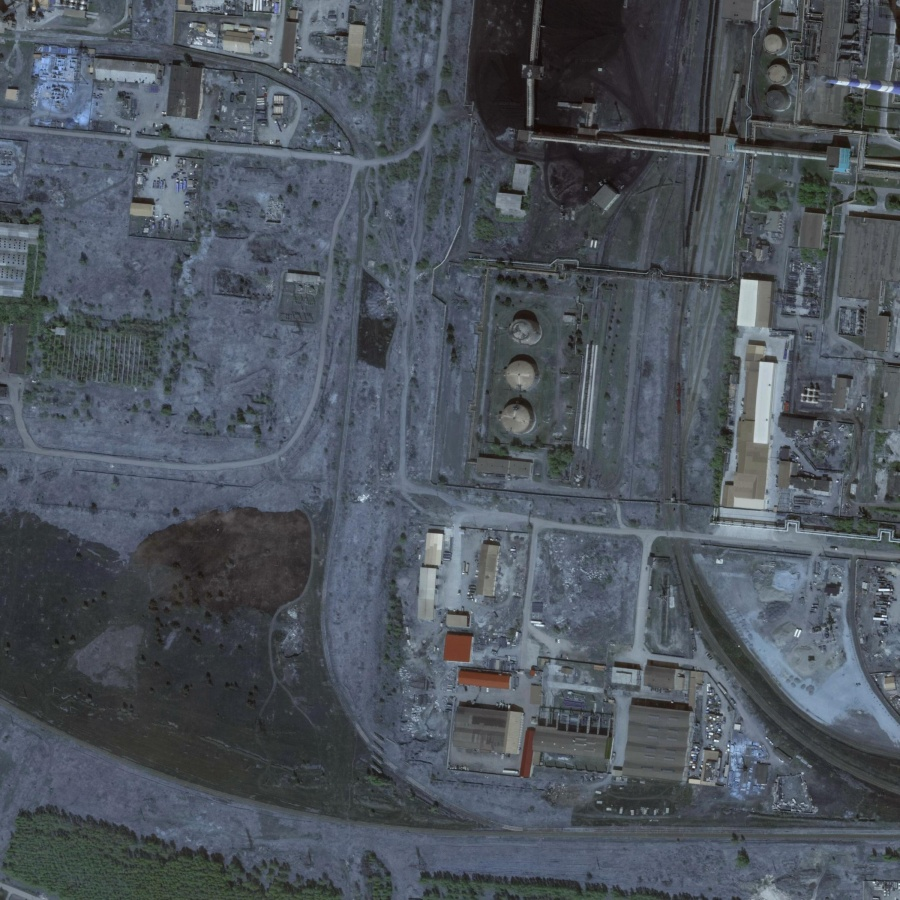PowerPlant: (460, 252, 608, 494)
